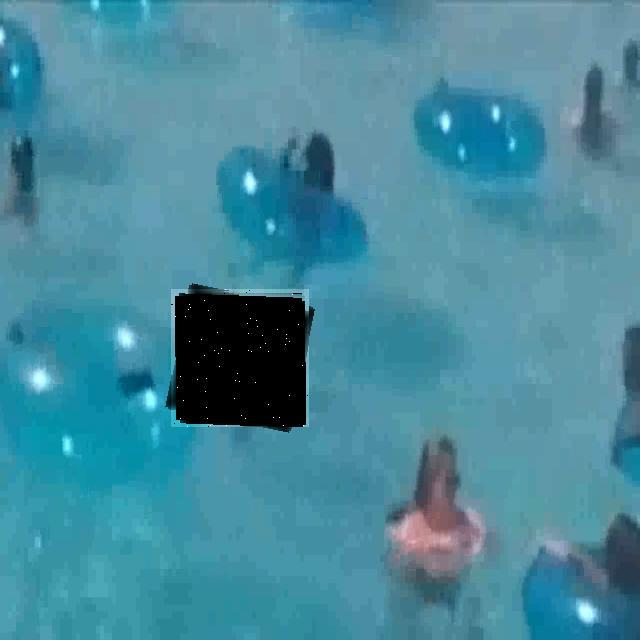Out of Water: (171, 289, 309, 427)
